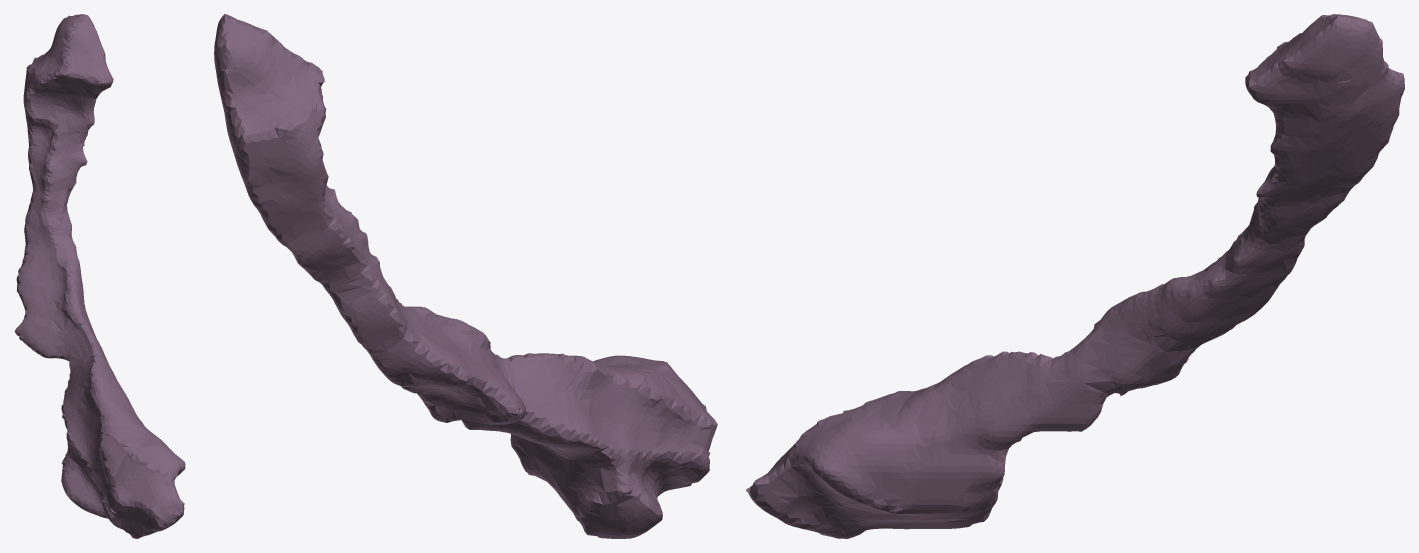
The model's file is Model_10105_LH__Parasubiculum_(PaS).obj.
The picture shows the model from 3 angles, left to right: view 1: azimuth 30°, elevation 25°; view 2: azimuth 150°, elevation 25°; view 3: azimuth 270°, elevation 25°; orthographic projection. The views are drawn at different scales.
Size of the model in its own units: 3.61 by 8.89 by 8.81.
